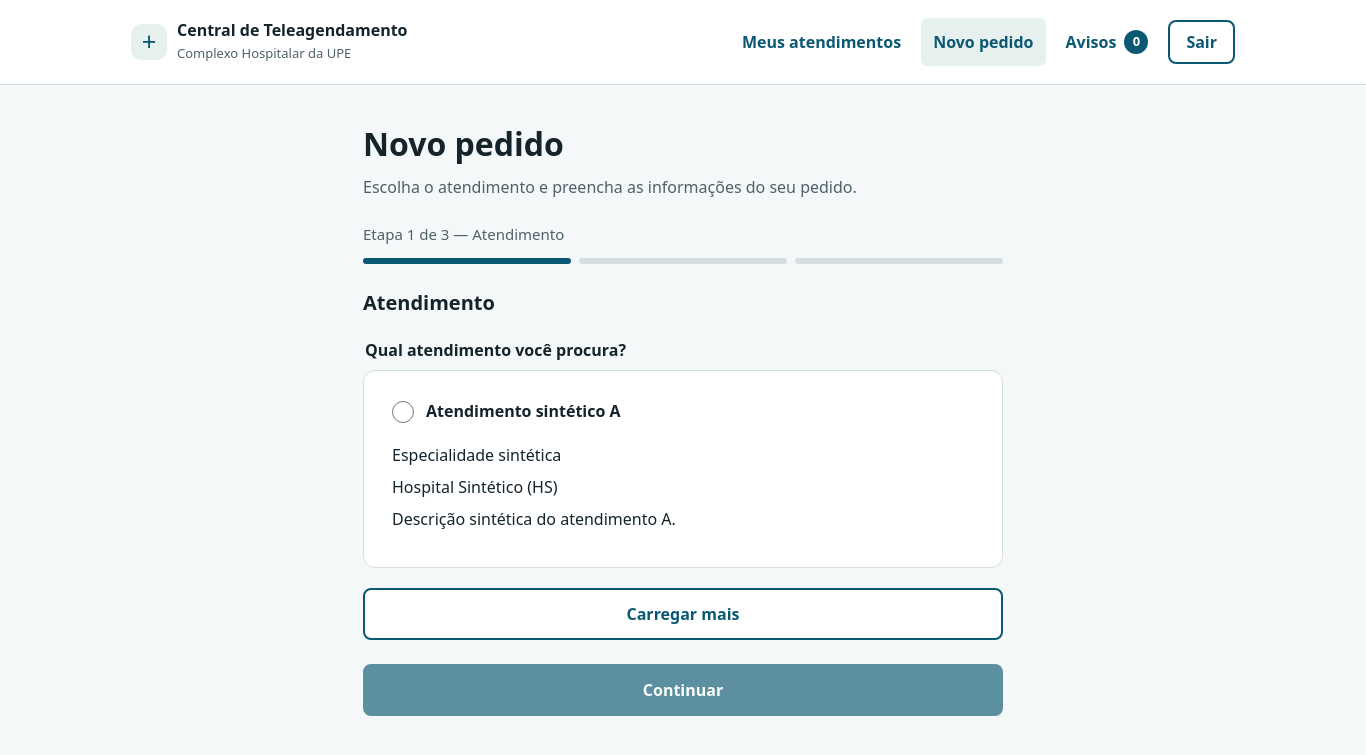
Test: UC-002 — atendimento e contrato › página vazia antes do total encerra paginação sem loop
The width and height of the screenshot is (1366, 755).
Click the radio button labelled "Atendimento sintético A".
click(403, 412)  # box [392,401,414,423]
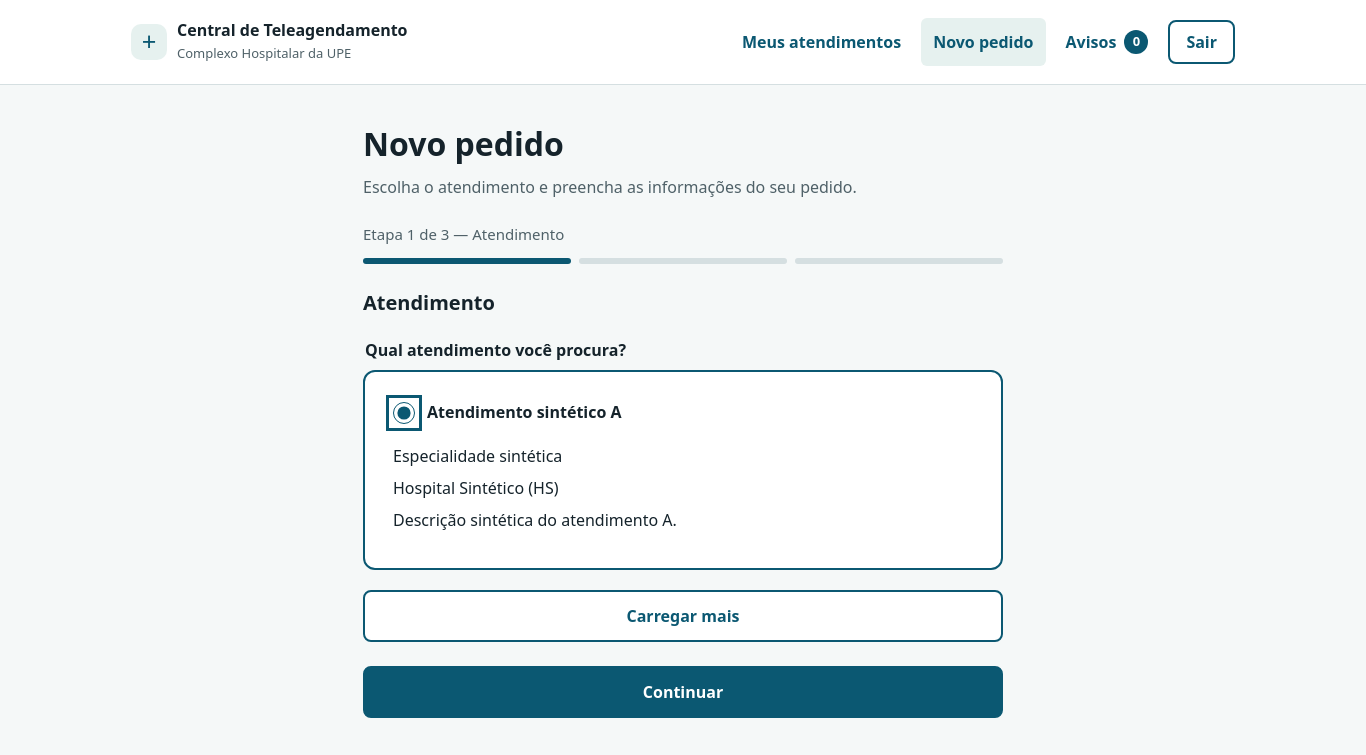
Result: the button "Continuar" is enabled at [363,666,1003,718]
Click the button "Carregar mais".
click(683, 616)  # box [363,590,1003,642]
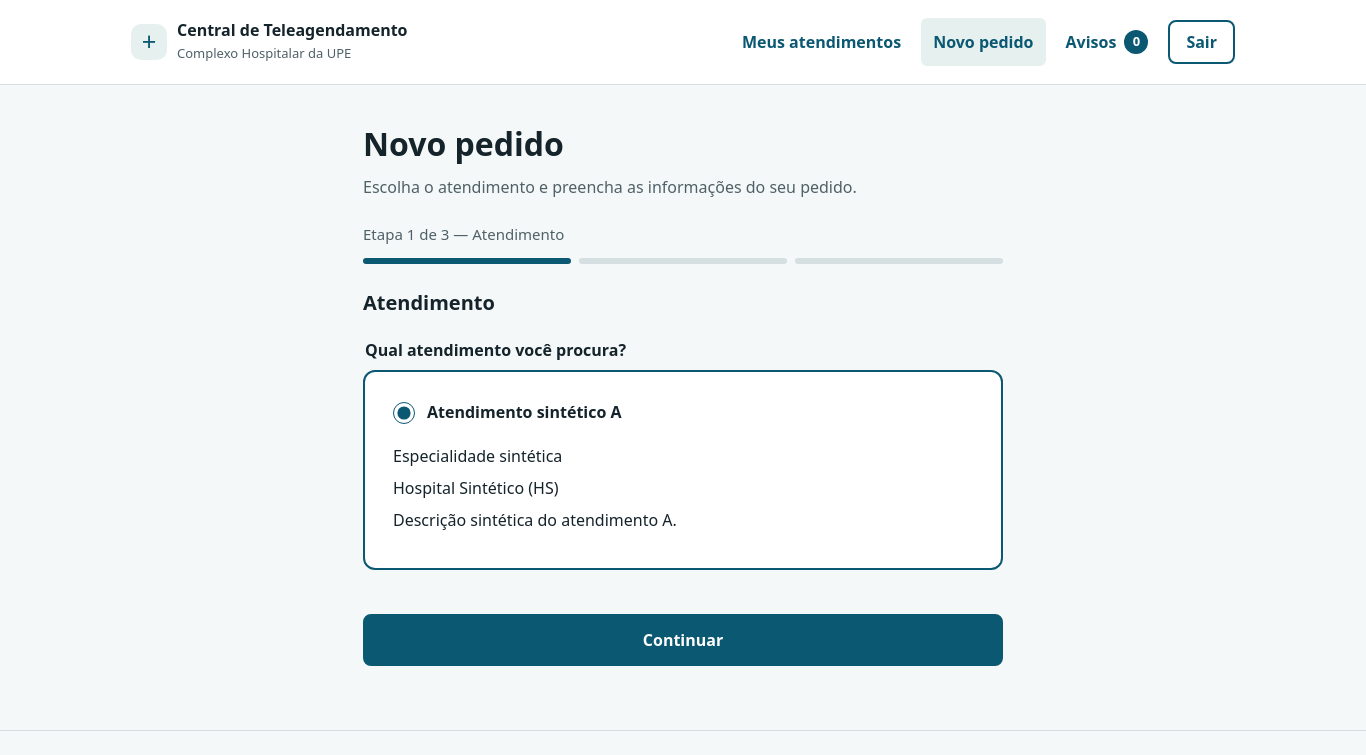
Result: the button "Carregar mais" is gone
